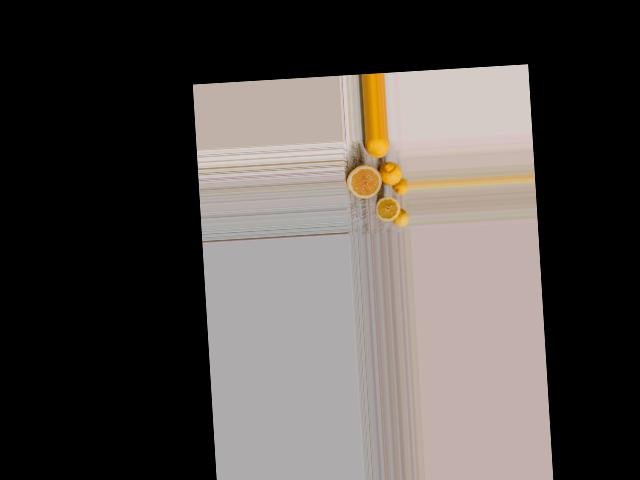lemon: (362, 138, 391, 160)
